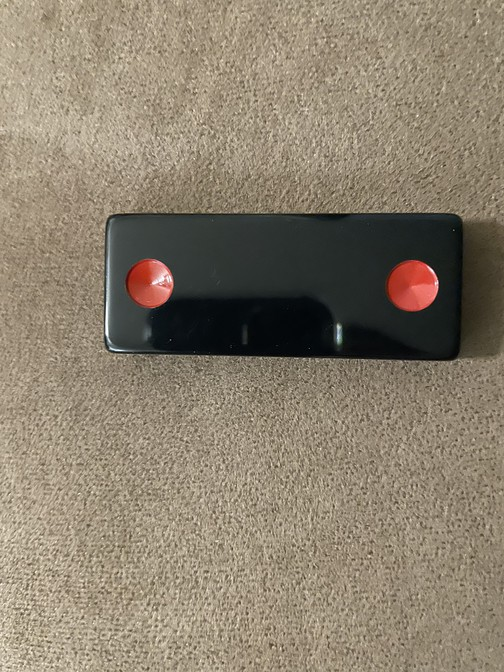earth: (103, 213, 466, 363)
